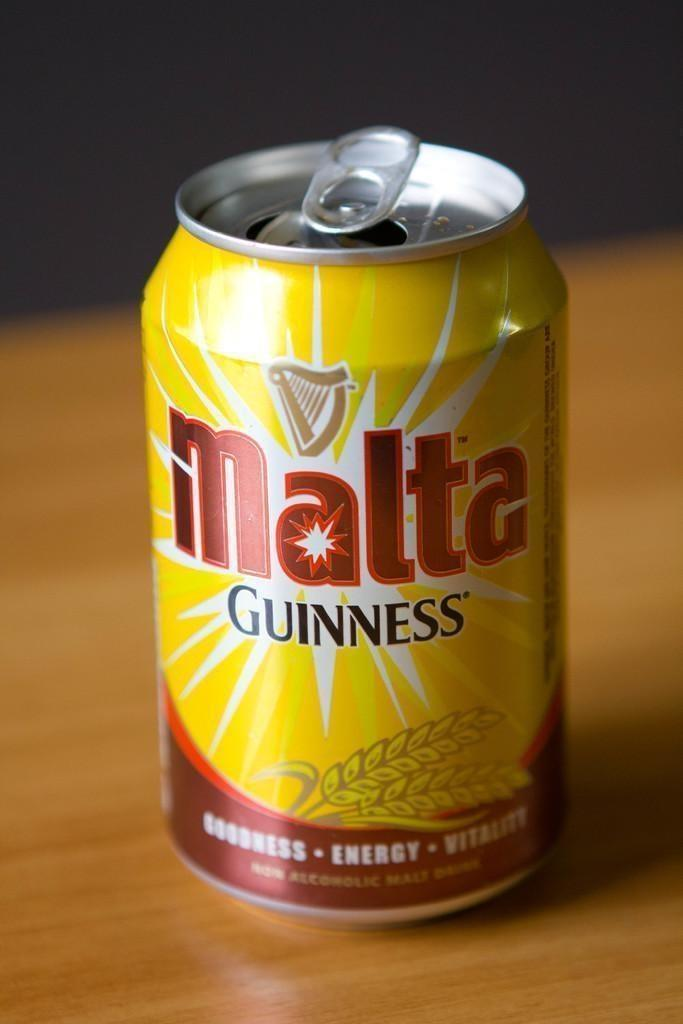tin can: (141, 127, 566, 928)
